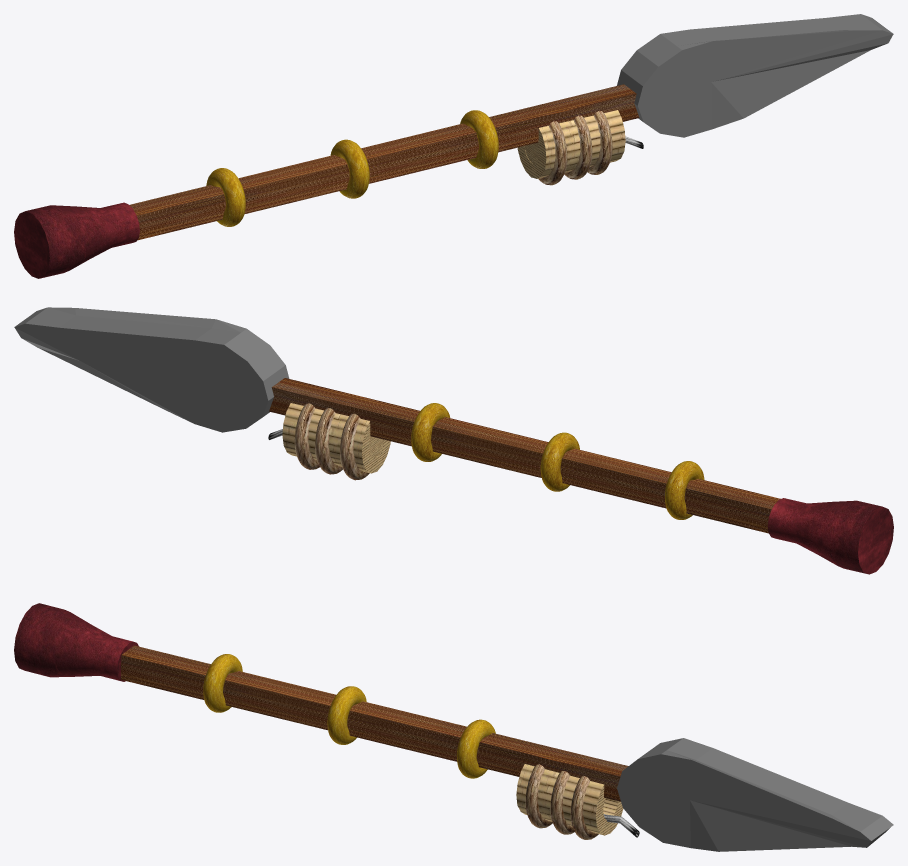
The model's file is firelance.fbx.
3 renders of one model, top to bottom at view 1: azimuth 30°, elevation 25°; view 2: azimuth 150°, elevation 25°; view 3: azimuth 330°, elevation 25°, orthographic.
Parts seen in each view (by area): view 1: Cylinder_2_2, Cube, Cylinder, Tube, Torus_5, Torus, Torus_3, Torus_2, Torus_1; view 2: Cylinder_2_2, Cube, Cylinder, Tube, Torus_5, Torus_3, Torus, Torus_2, Torus_1; view 3: Cylinder_2_2, Cube, Cylinder, Tube, Torus_5, Torus_3, Torus, Torus_2, Torus_1.
Part boxes in pixels (box(x1,y1,x2,y2)): Cylinder_2_2: box(617, 14, 893, 137); Cube: box(129, 84, 639, 240); Cylinder: box(14, 202, 139, 278); Tube: box(517, 110, 625, 178); Torus_5: box(564, 111, 612, 179); Torus: box(330, 139, 369, 198); Torus_3: box(206, 168, 245, 226); Torus_2: box(460, 110, 498, 168); Torus_1: box(538, 121, 567, 185); Cylinder_2_2: box(14, 307, 289, 432); Cube: box(269, 378, 780, 533); Cylinder: box(767, 498, 893, 574); Tube: box(282, 403, 390, 473); Torus_5: box(294, 403, 342, 474); Torus_3: box(665, 461, 704, 519); Torus: box(540, 432, 579, 491); Torus_2: box(411, 403, 450, 461); Torus_1: box(340, 413, 369, 480); Cylinder_2_2: box(617, 738, 893, 851); Cube: box(121, 645, 628, 801); Cylinder: box(14, 603, 138, 681); Tube: box(516, 764, 623, 835); Torus_5: box(550, 771, 598, 839); Torus_3: box(203, 654, 242, 712); Torus: box(327, 686, 366, 744); Torus_2: box(457, 719, 495, 778); Torus_1: box(525, 764, 552, 828).
Bounding box in the file's own units: 537 × 68.18 × 39.37.
7 materials, 6 textured.
